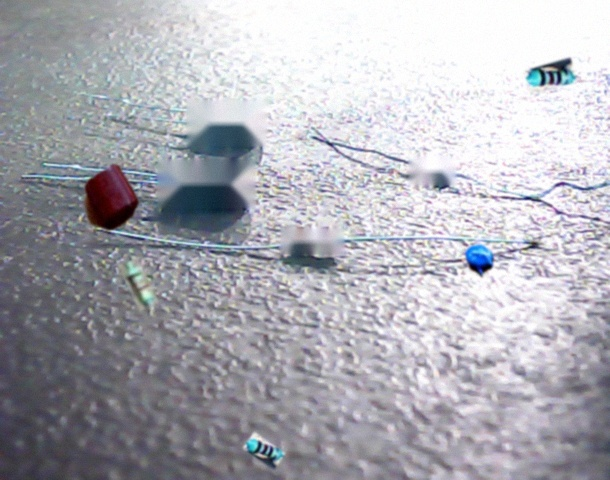capacitor: (84, 164, 139, 230), (465, 244, 494, 277)
resistor: (119, 258, 159, 311), (524, 58, 577, 95), (243, 432, 285, 469)
